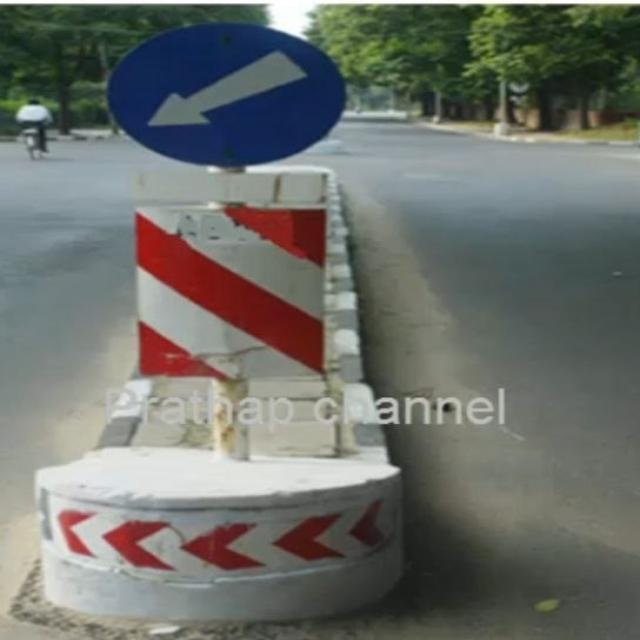compulsory_keep_left: (107, 23, 350, 168)
